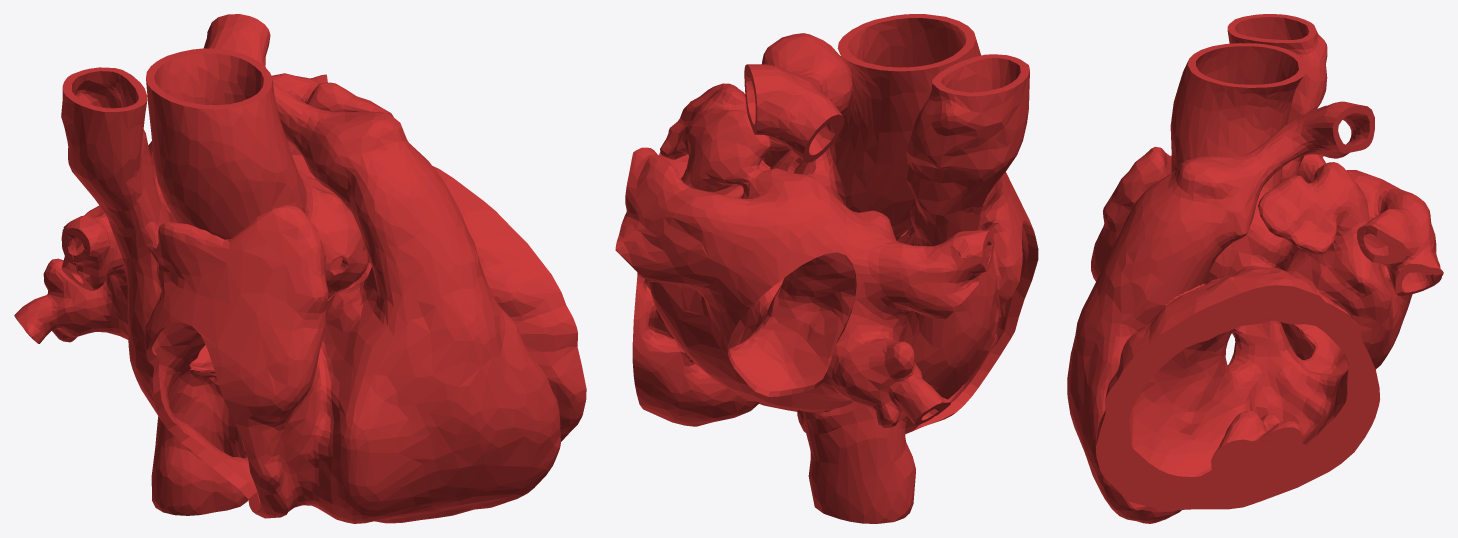
The model's file is pediatric_heart_3_ASD_VSD.glb.
The picture shows the model from 3 angles, left to right: view 1: azimuth 30°, elevation 25°; view 2: azimuth 150°, elevation 25°; view 3: azimuth 270°, elevation 25°; orthographic projection. The views are drawn at different scales.
Visible parts, largest first — view 1: PediadricHeart_3 ASD_VSD; view 2: PediadricHeart_3 ASD_VSD; view 3: PediadricHeart_3 ASD_VSD.
Part boxes in pixels (x1,y1,x2,y2): PediadricHeart_3 ASD_VSD: (14, 14, 586, 523); PediadricHeart_3 ASD_VSD: (615, 14, 1038, 523); PediadricHeart_3 ASD_VSD: (1067, 14, 1443, 523).
Size of the model in its own units: 0.8164 by 0.8397 by 0.7672.
